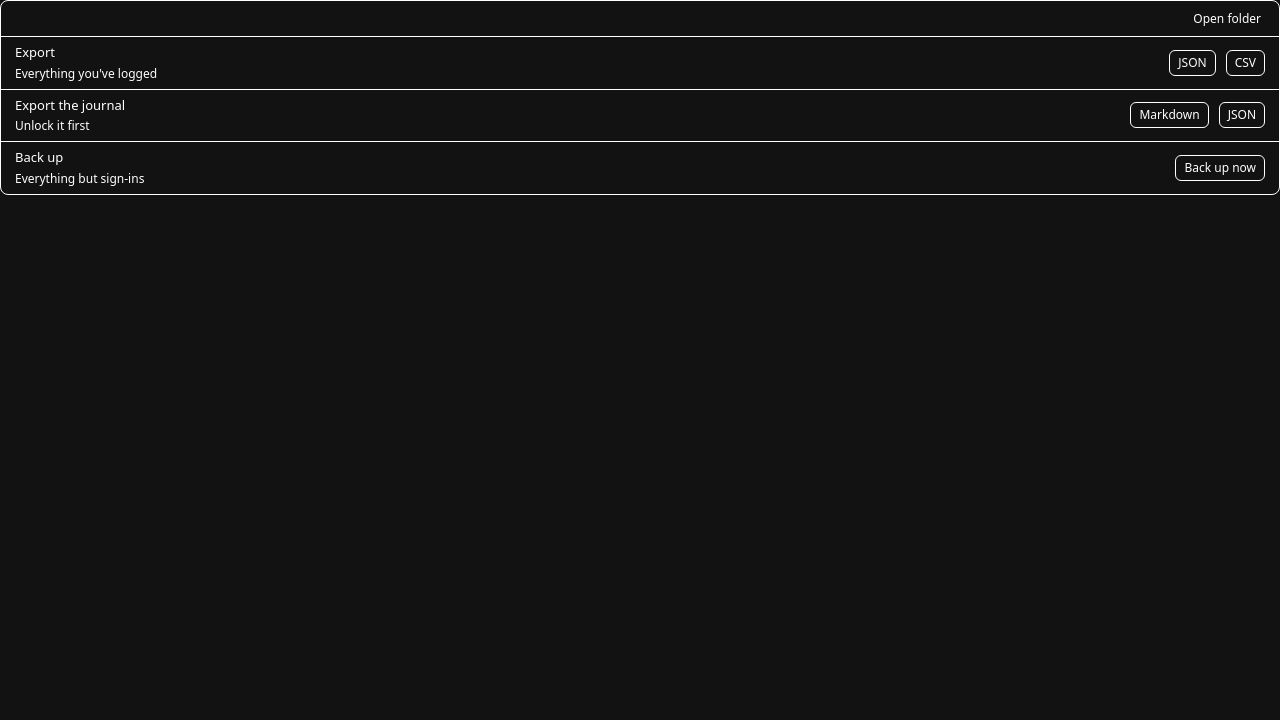
Scenario: Your Data › exports the journal as Markdown or JSON, and asks for an unlock while locked
This screenshot has width=1280, height=720.
expect the text "Unlock it first" is shown: met, box [15,117,90,134]
Click the button with aria-label "Journal as Markdown" at {"x": 1170, "y": 115}, box [1130,102,1209,128]
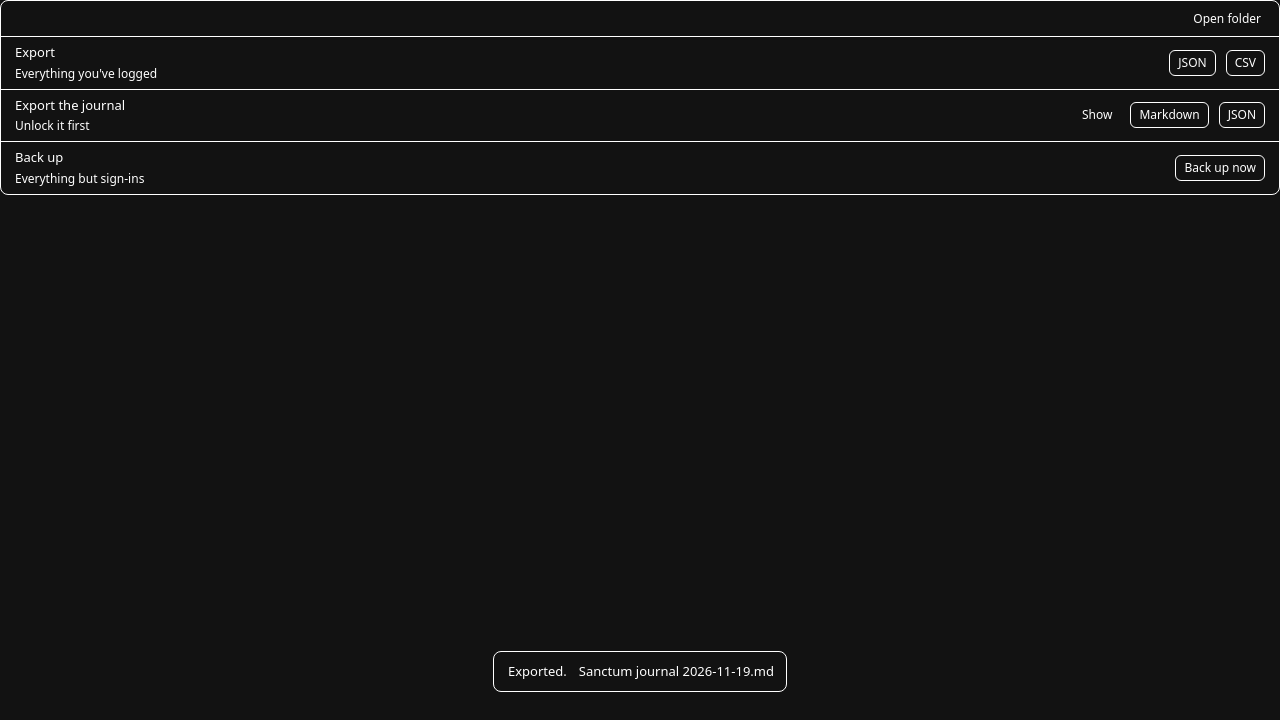
expect the message shows "Exported.": met, box [508,662,567,680]
Click the button with aria-label "Journal as JSON" at {"x": 1242, "y": 115}, box [1219,102,1265,128]
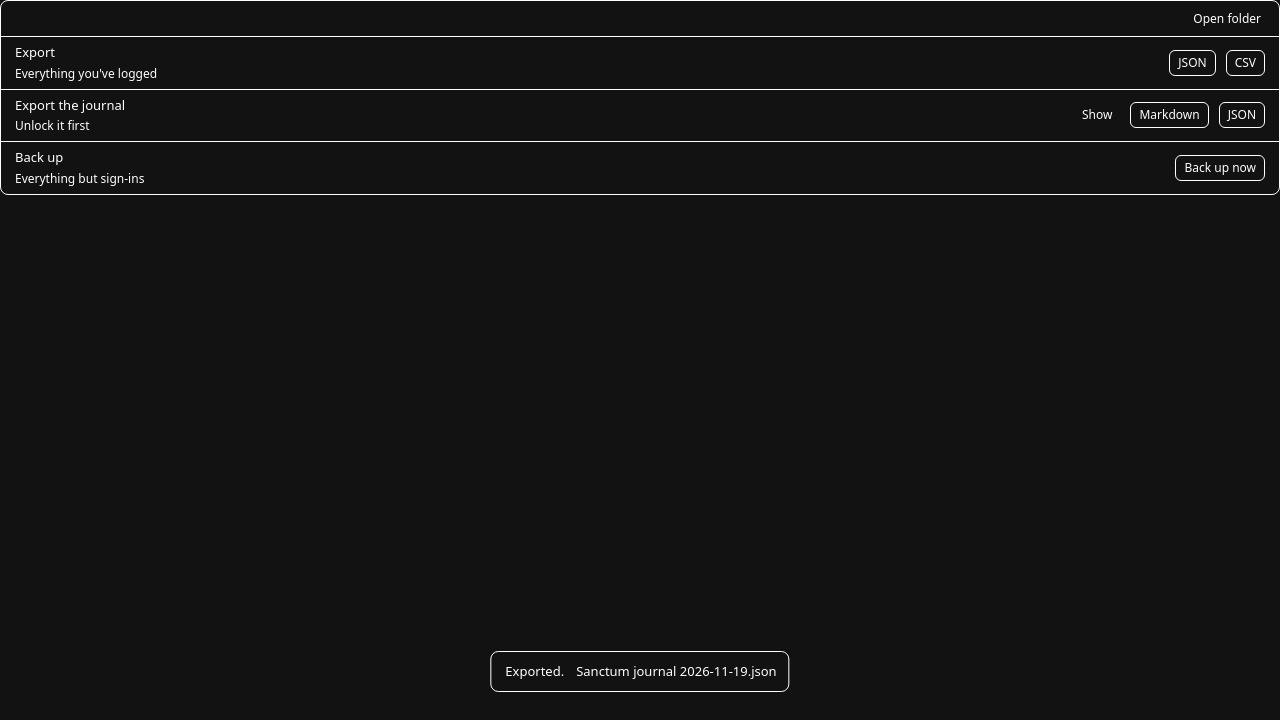
Click the button with aria-label "Journal as Markdown" at {"x": 1170, "y": 115}, box [1130,102,1209,128]
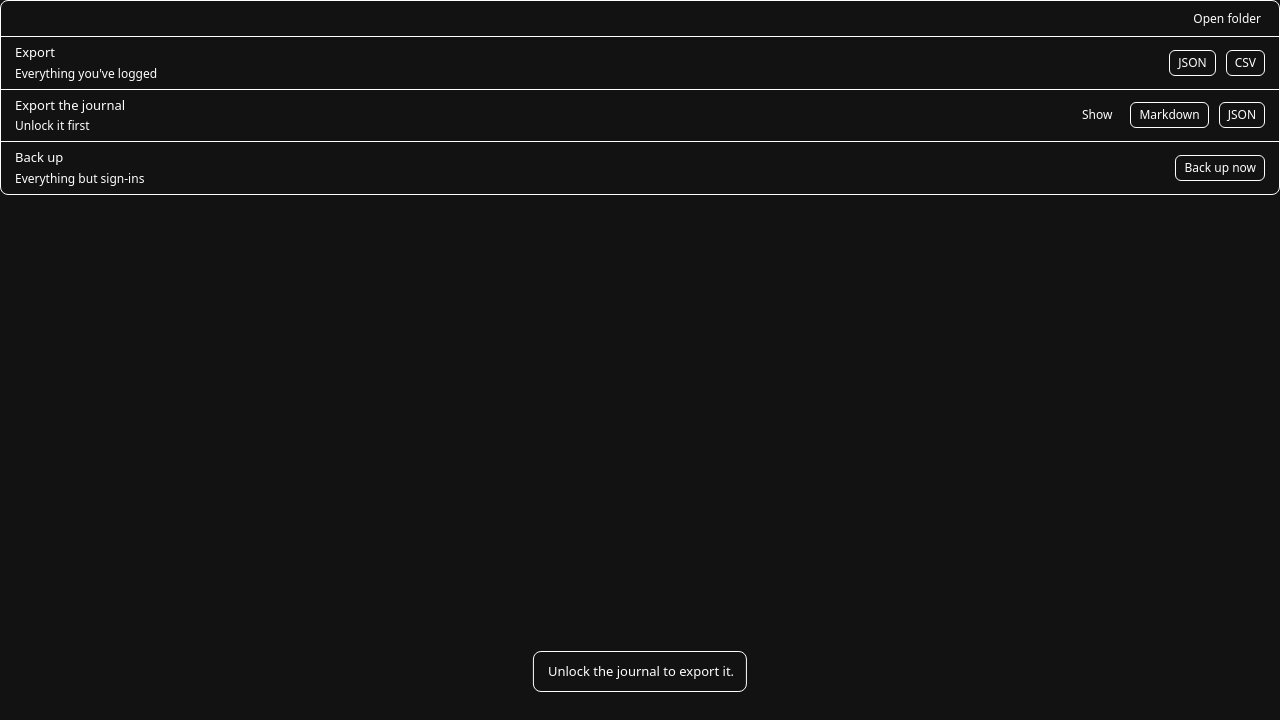
expect the message reads "Unlock the journal to export it.": met, box [548,662,734,680]
